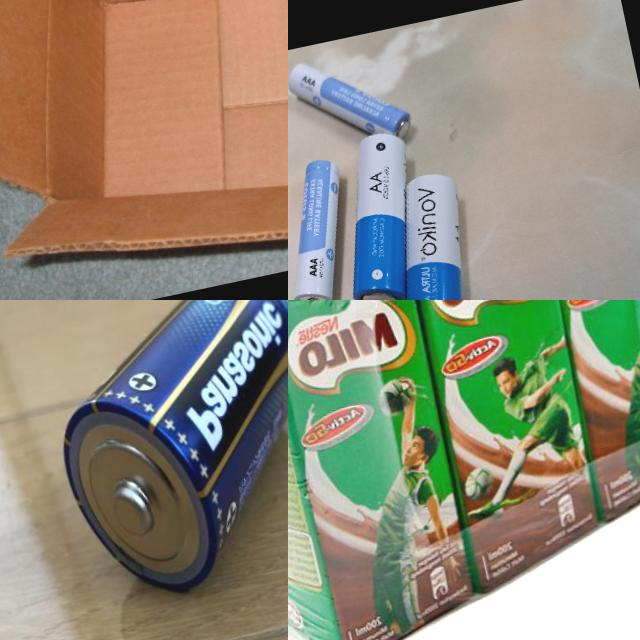bateria: (25, 300, 288, 613), (318, 128, 435, 300), (373, 168, 492, 300), (288, 42, 413, 157), (288, 154, 366, 300)
caixinha: (288, 300, 640, 640)
garrafa plástica: (0, 0, 288, 300)
